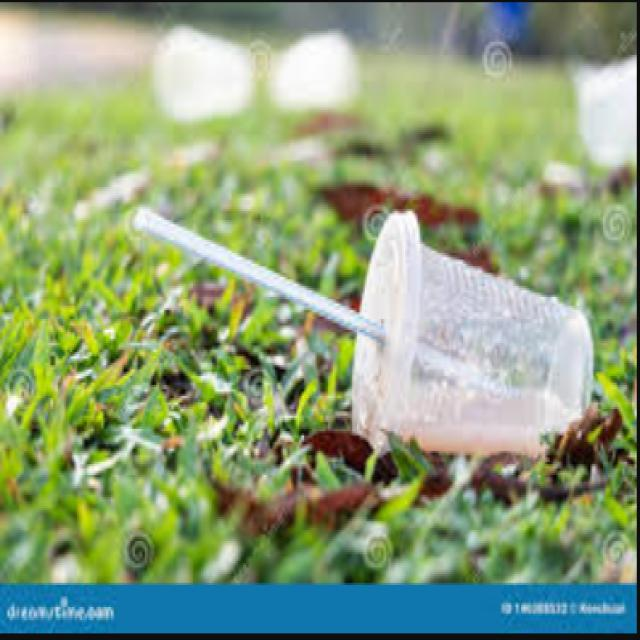GelasPlastik: (349, 207, 595, 462)
